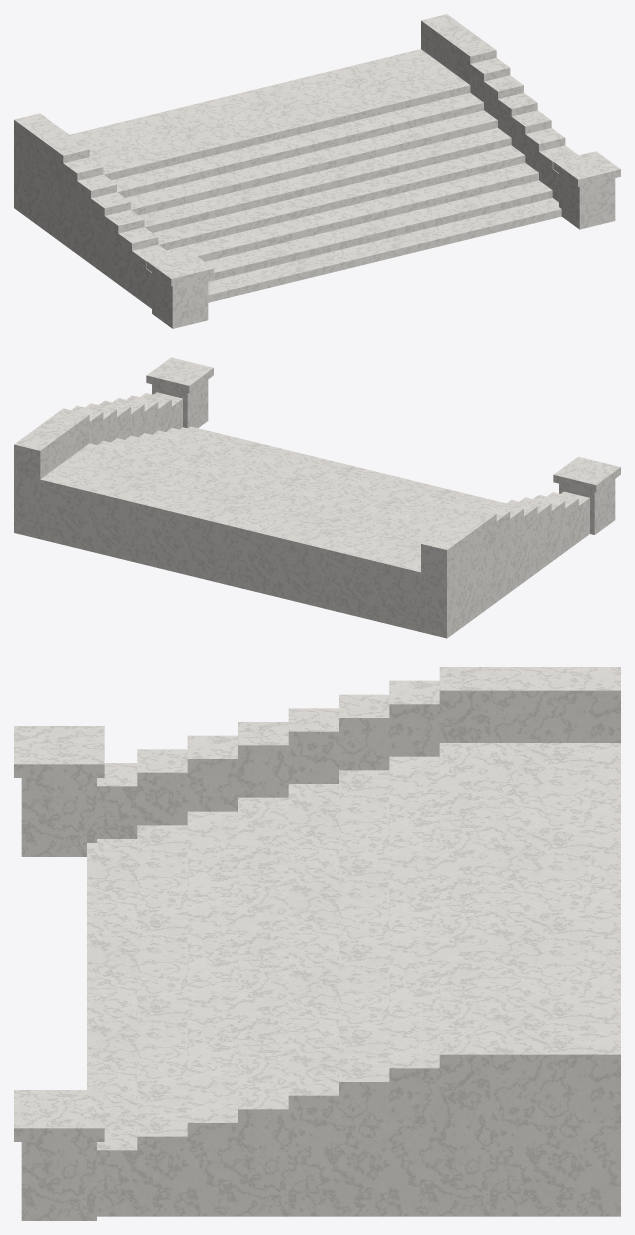
Rendered from SM_colo_steps.glb.
3 renders of one model, top to bottom at view 1: azimuth 30°, elevation 25°; view 2: azimuth 150°, elevation 25°; view 3: azimuth 270°, elevation 25°, orthographic. The views are drawn at different scales.
Visible parts, largest first — view 1: SM_colo_steps; view 2: SM_colo_steps; view 3: SM_colo_steps.
Part boxes in pixels (x1,y1,x2,y2): SM_colo_steps: (14, 14, 620, 328); SM_colo_steps: (14, 357, 620, 638); SM_colo_steps: (14, 667, 620, 1220).
Size of the model in its own units: 18.9 by 3.55 by 12.05.
Materials: 1 (1 with a texture image).
